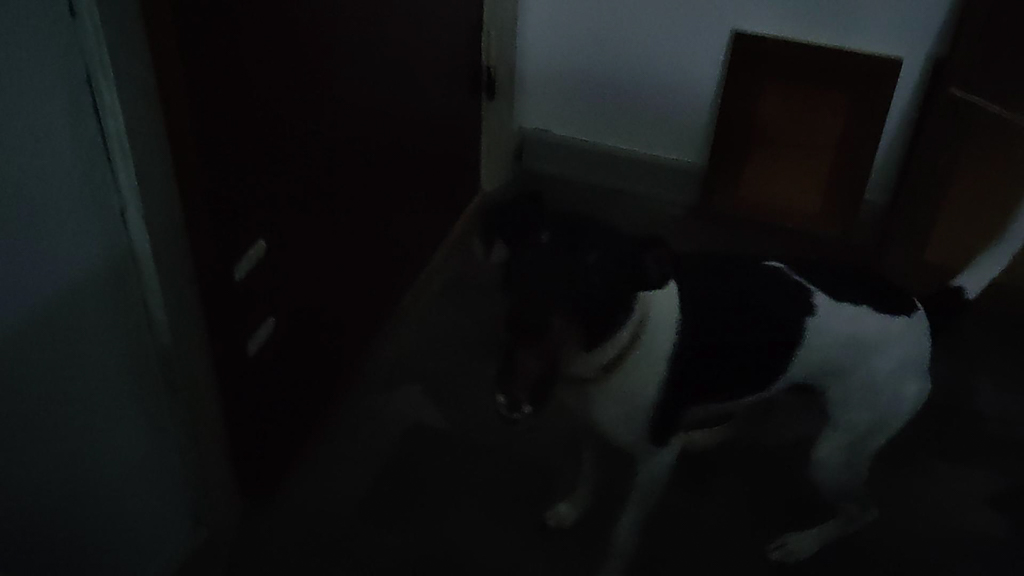Dog: (454, 169, 1024, 576)
